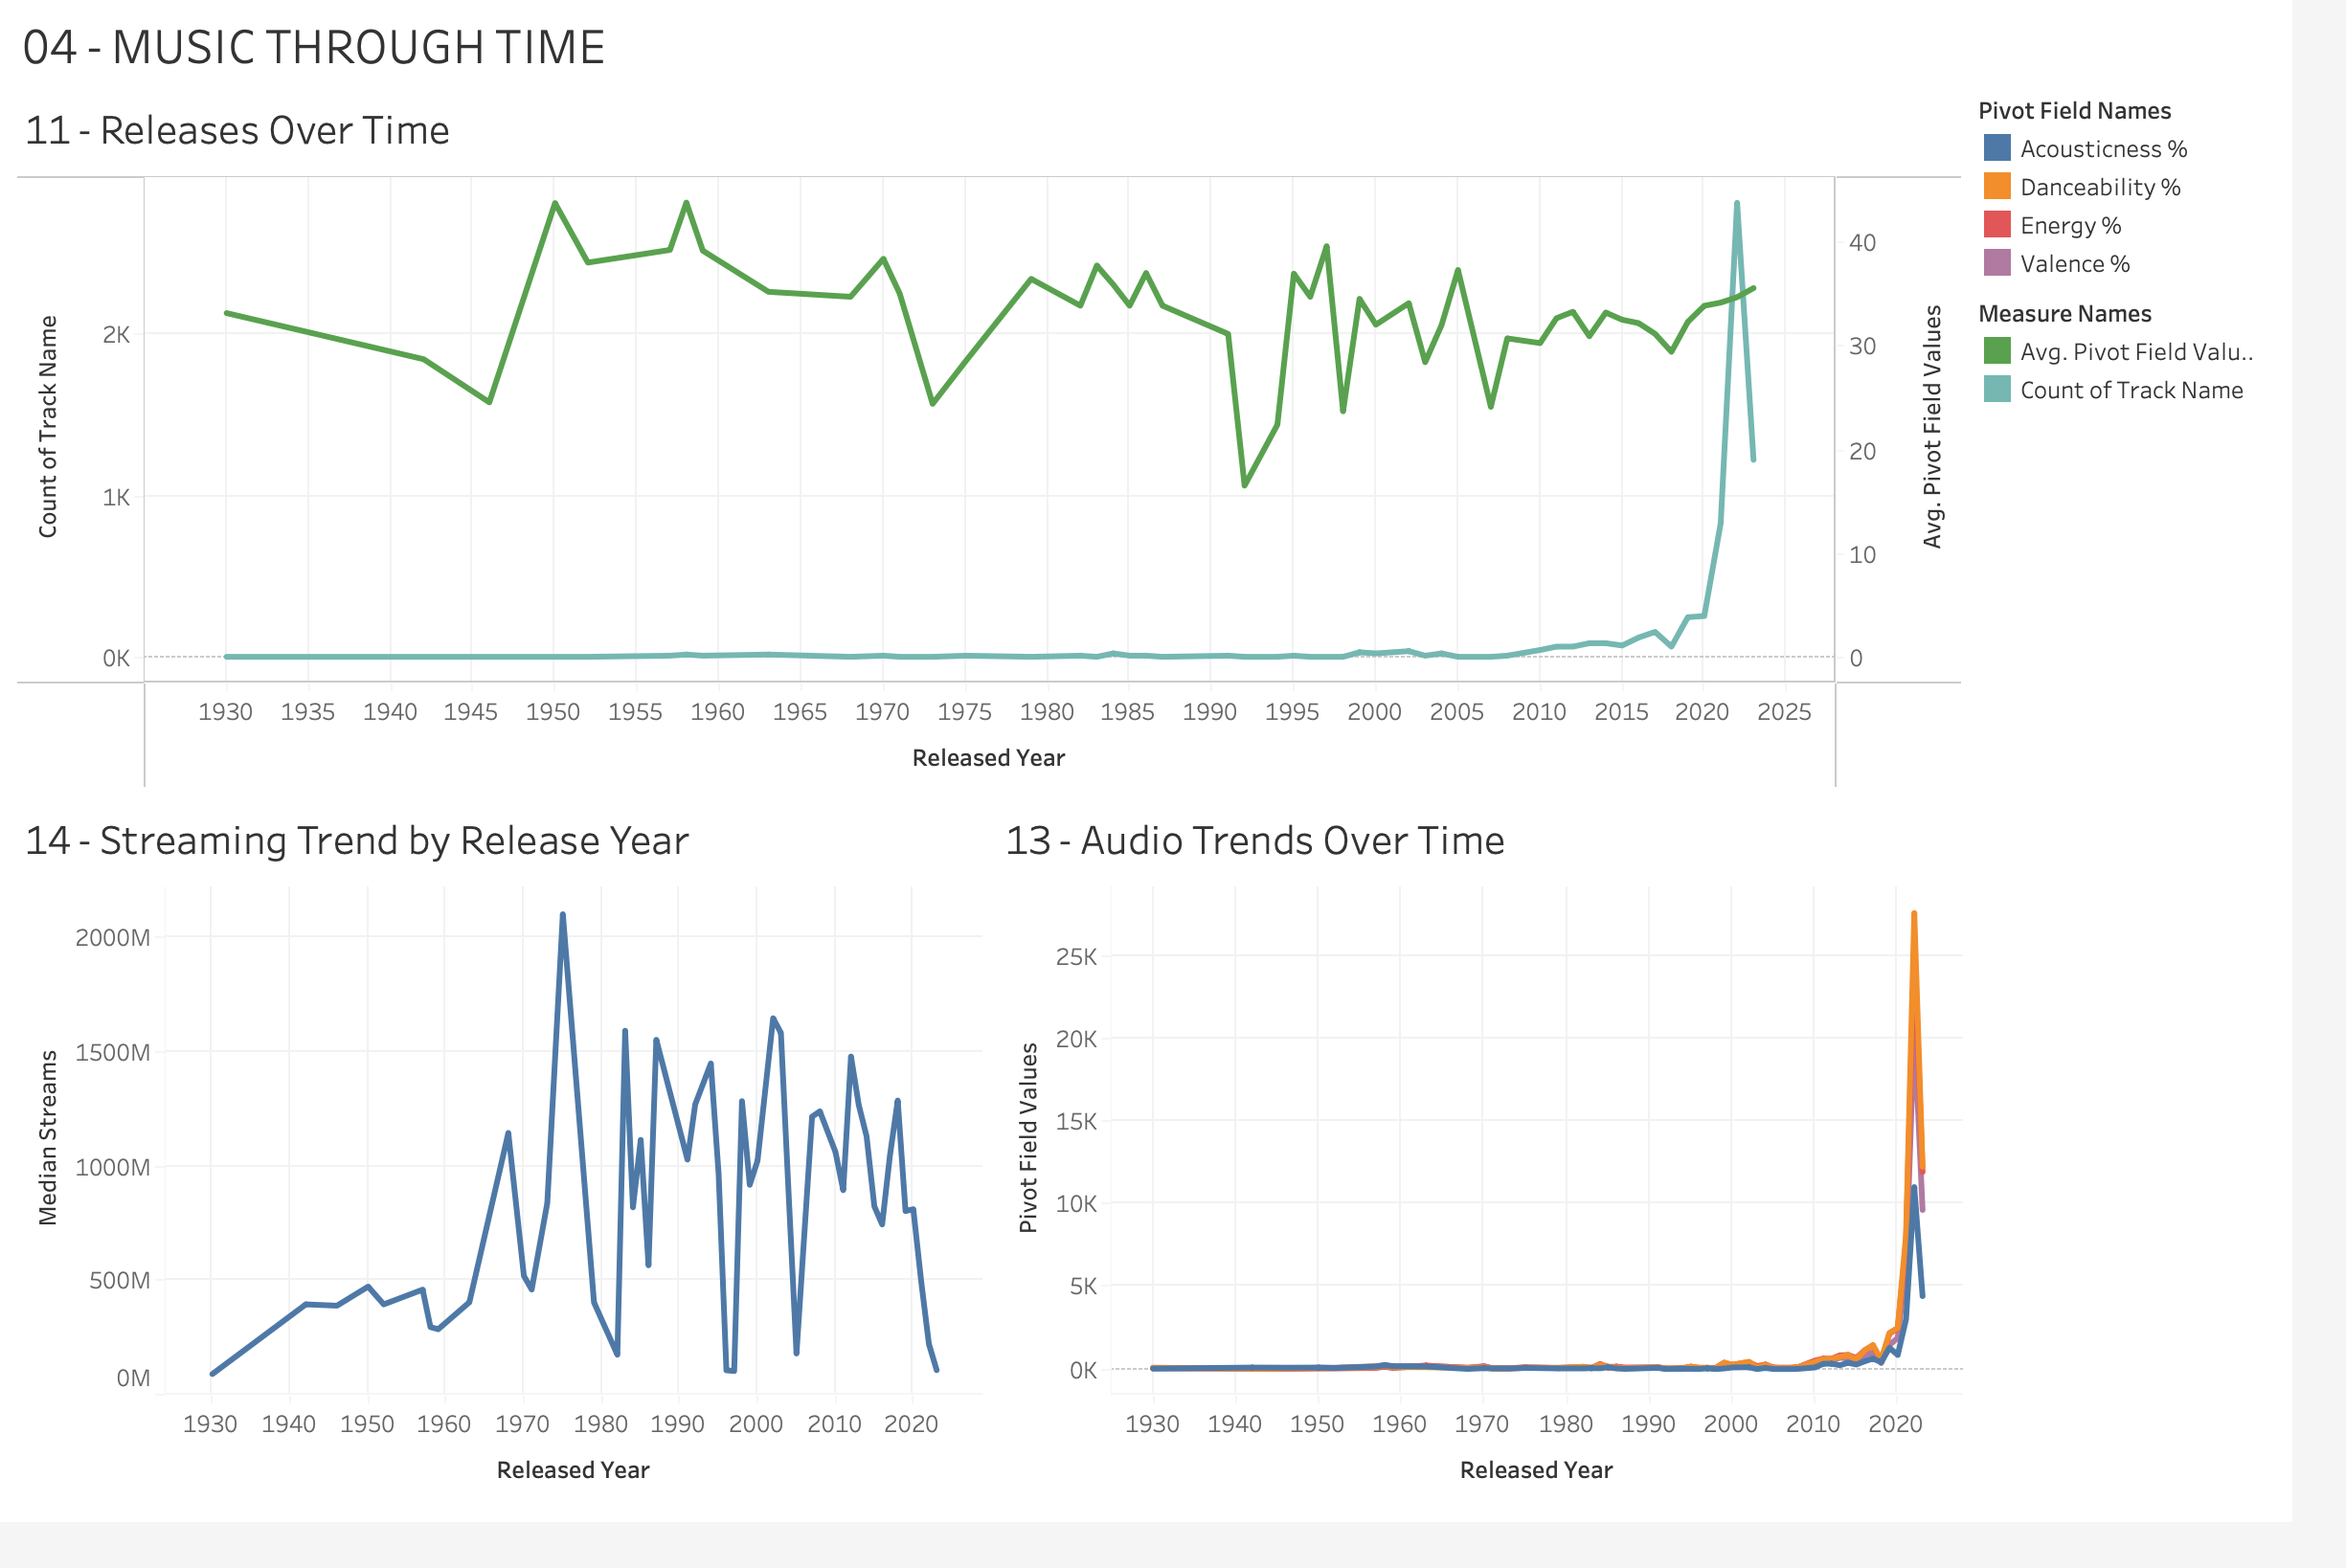

This screenshot's page, from the dashboard's own definition file:
{"tool":"tableau","page":{"name":"04 - MUSIC THROUGH TIME","canvas":[1200,800],"ordinal":3},"visuals":[{"type":"title","box":[8,8,1184,42]},{"type":"worksheet","title":"11 - Releases Over Time","mark":"Automatic","rows":["track_name","Pivot Field Values"],"cols":["released_year"],"box":[8,50,1024,371]},{"type":"legend","title":"13 - Audio Trends Over Time","param":"[federated.0odphf00k9yut019sd75t1iur6ny].[none:Pivot Field Names:nk]","box":[1032,50,160,106]},{"type":"legend","title":"11 - Releases Over Time","param":"[federated.0odphf00k9yut019sd75t1iur6ny].[:Measure Names]","box":[1032,156,160,66]},{"type":"worksheet","title":"14 - Streaming Trend by Release Year","mark":"Automatic","rows":["streams"],"cols":["released_year"],"box":[8,421,512,371]},{"type":"worksheet","title":"13 - Audio Trends Over Time","mark":"Automatic","rows":["Pivot Field Values"],"cols":["released_year"],"box":[520,421,512,371]}]}

Visuals, with their boxes in screenshot pixels (x1, y1, x2, y2), scaled from the page's 1200x800 canvas onto the 2346x1568 screenshot:
title: x1=15, y1=15, x2=2331, y2=98
"11 - Releases Over Time" worksheet: x1=15, y1=98, x2=2018, y2=825
"13 - Audio Trends Over Time" legend: x1=2018, y1=98, x2=2331, y2=305
"11 - Releases Over Time" legend: x1=2018, y1=305, x2=2331, y2=436
"14 - Streaming Trend by Release Year" worksheet: x1=15, y1=825, x2=1017, y2=1553
"13 - Audio Trends Over Time" worksheet: x1=1017, y1=825, x2=2018, y2=1553
